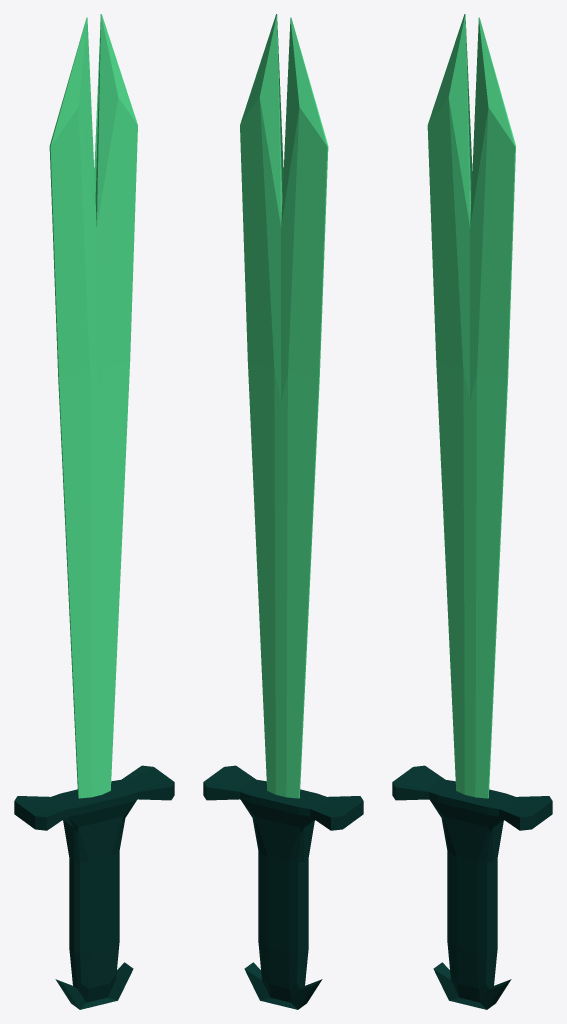
Rendered from ElvenSword.fbx.
3 renders of one model, left to right at view 1: azimuth 30°, elevation 25°; view 2: azimuth 150°, elevation 25°; view 3: azimuth 330°, elevation 25°, orthographic.
Visible parts, largest first — view 1: ElvenSword; view 2: ElvenSword; view 3: ElvenSword.
Boxes of the visible parts, x1,y1,x2,y2 form: ElvenSword: (14, 14, 174, 1009); ElvenSword: (203, 14, 363, 1009); ElvenSword: (392, 14, 552, 1009).
Size of the model in its own units: 117 by 793 by 42.95.
